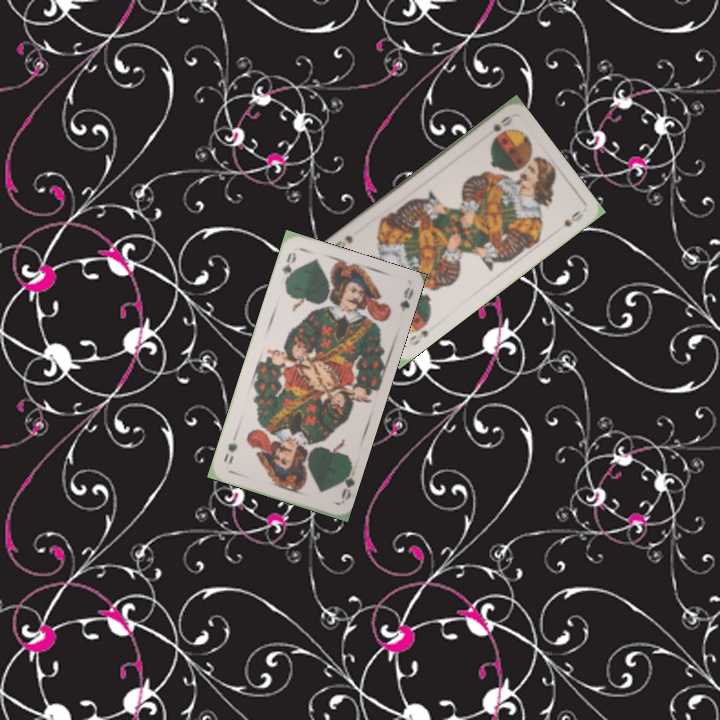GO: (334, 464, 356, 504), (278, 248, 299, 288)
SO: (405, 326, 432, 348), (489, 112, 515, 134)
